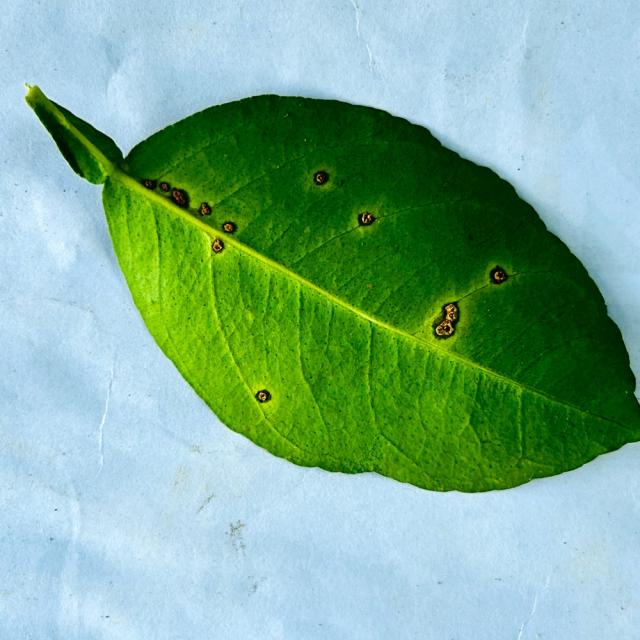Anthracnose: (141, 172, 207, 223), (478, 246, 526, 304), (346, 200, 397, 239), (301, 160, 351, 195), (200, 229, 240, 266), (185, 191, 226, 227), (434, 302, 469, 342), (251, 375, 285, 415), (215, 215, 252, 251)
Lemon: (23, 84, 639, 496)
